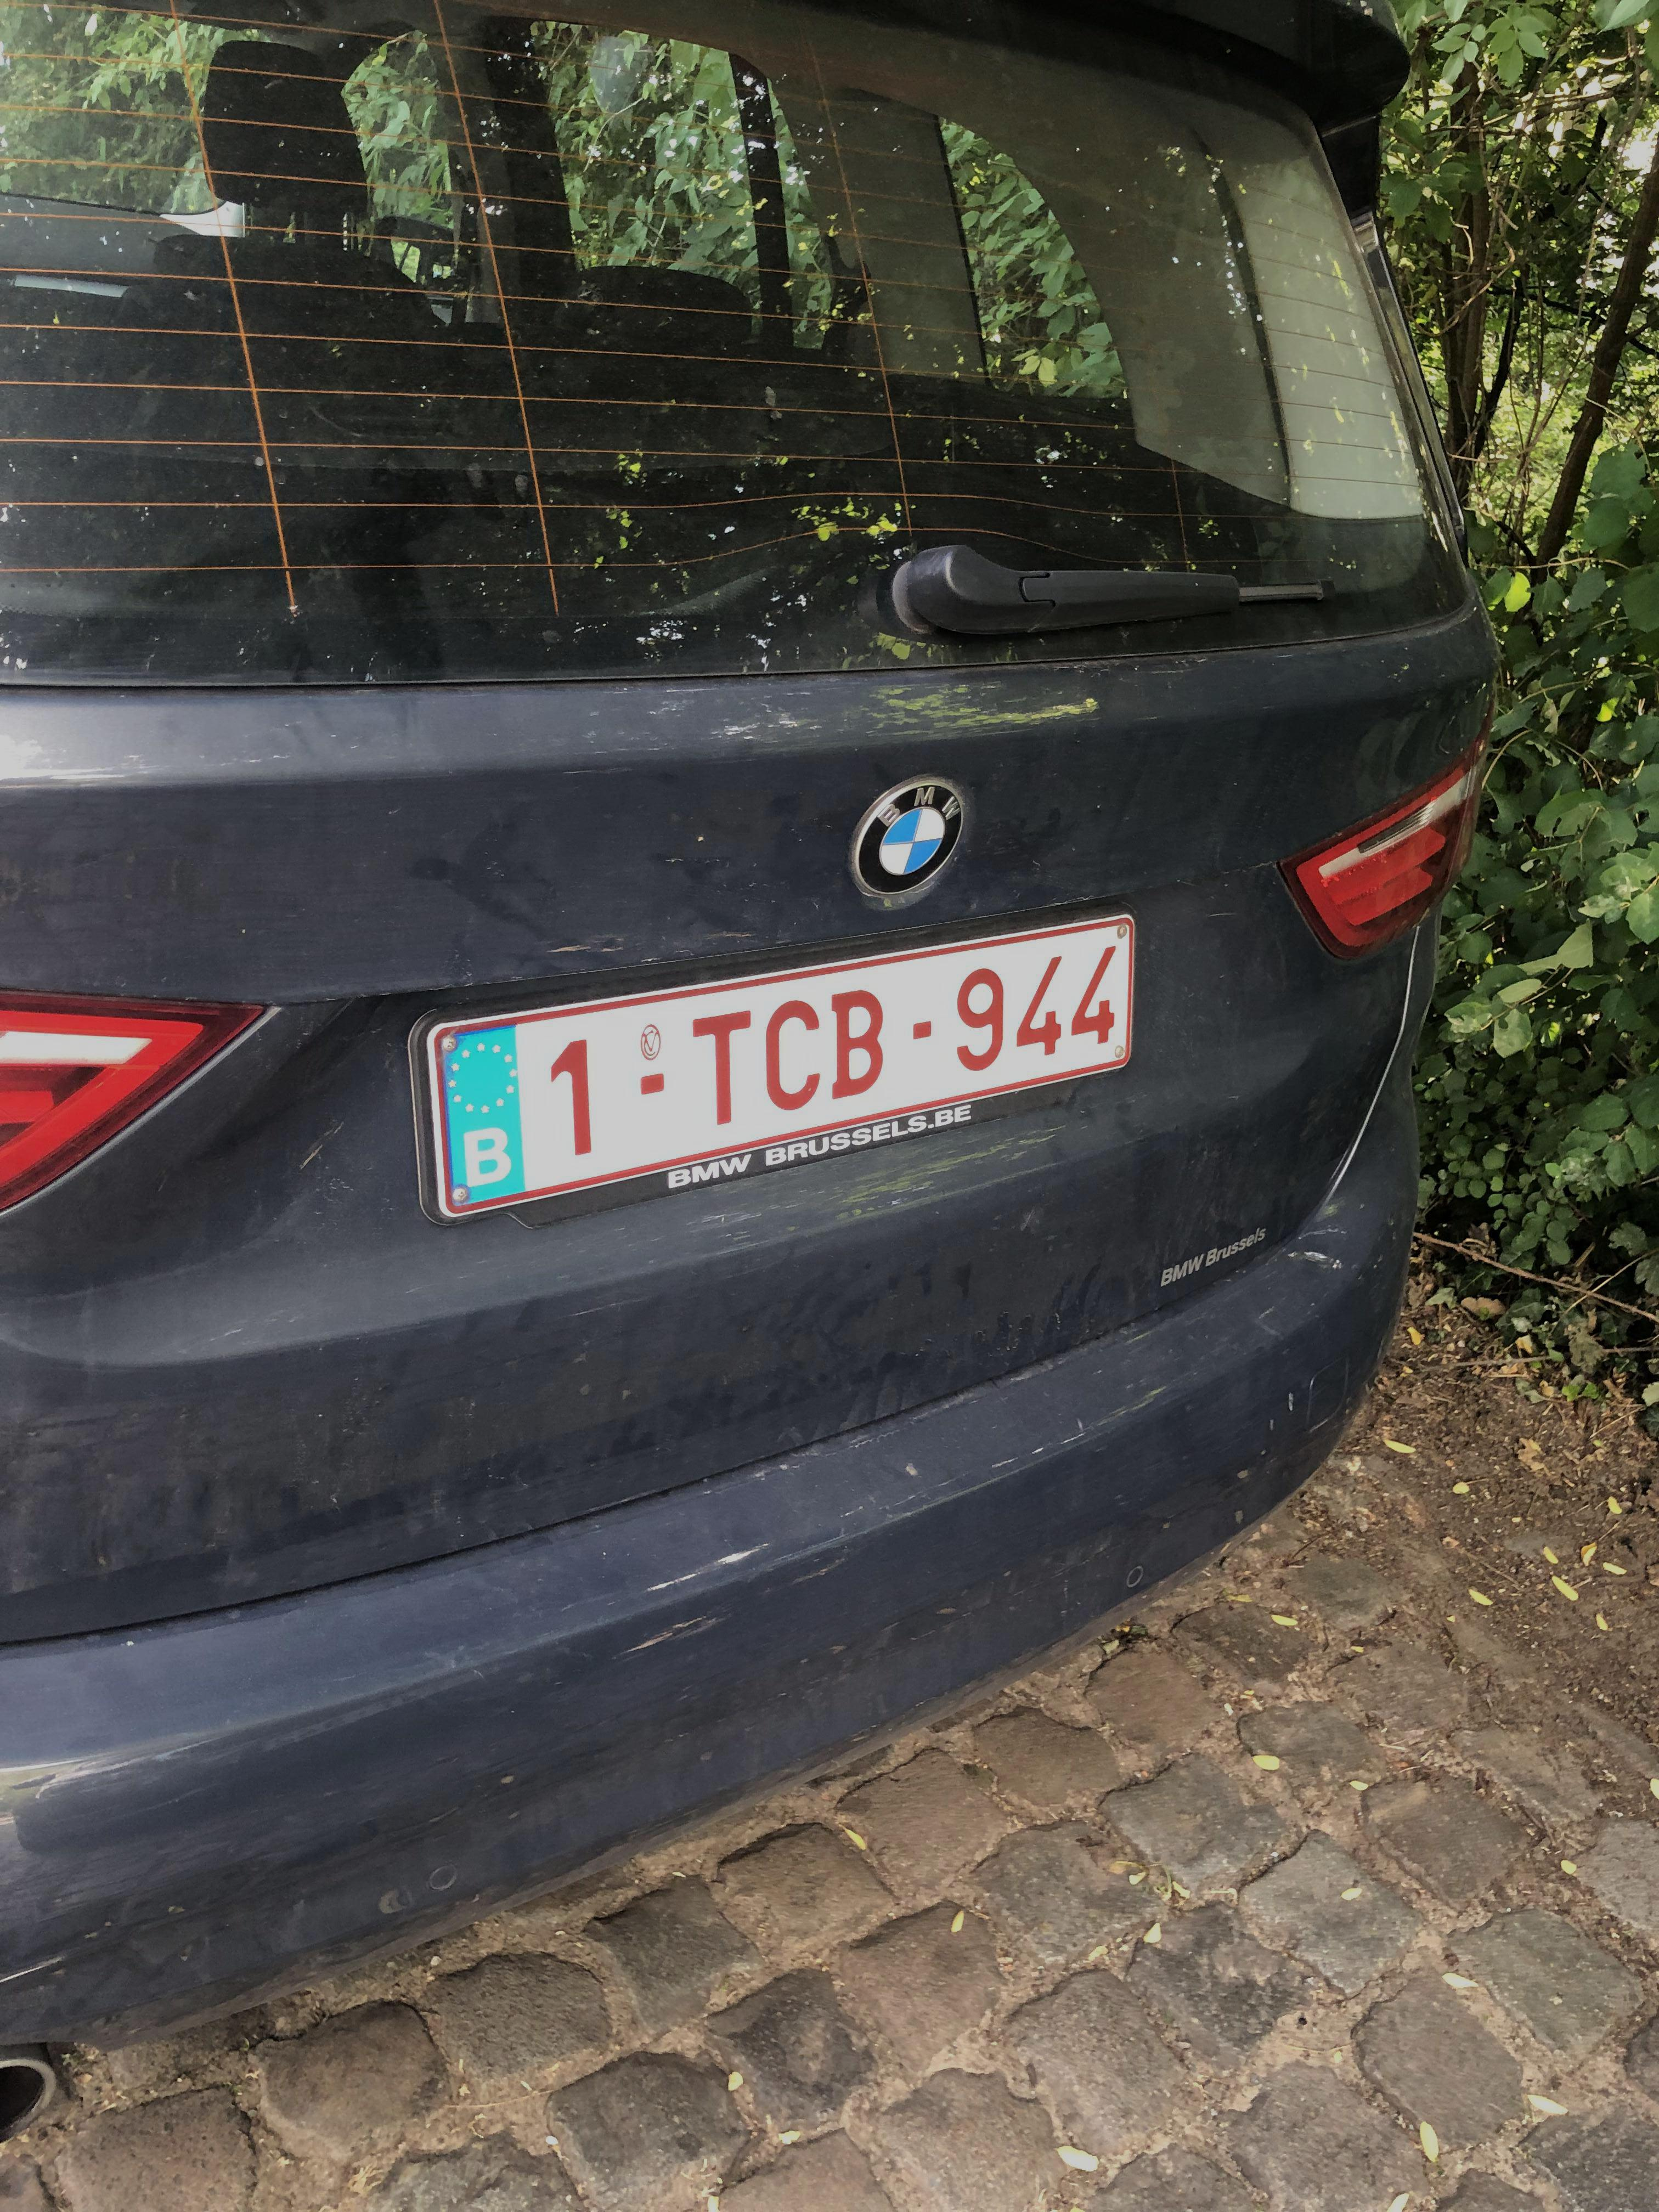plate: (394, 881, 1157, 1231)
